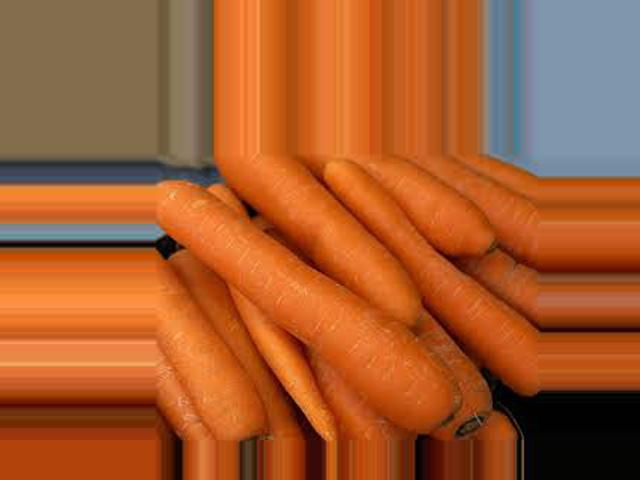carrot: (331, 164, 542, 370)
